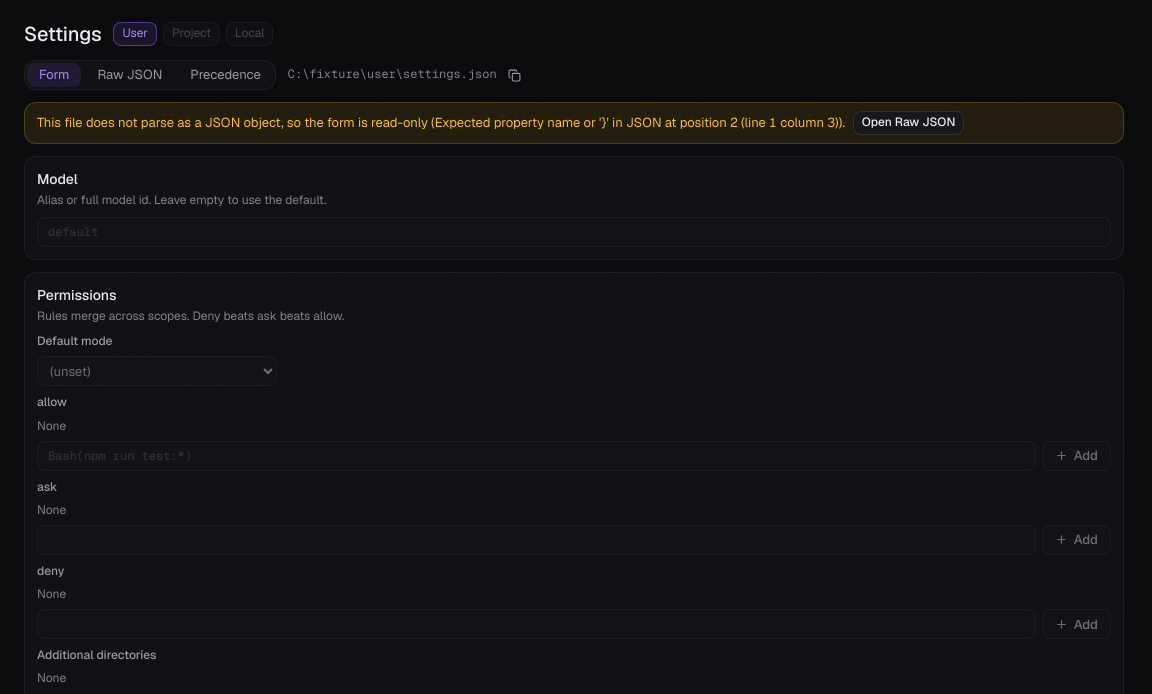
Scenario: SettingsPage form › an unparsable file makes the form read-only and offers Raw
Check: the text "form is read-only" is shown, box left=37, top=114, right=428, bottom=131
Check: the field named "Model" is disabled, box left=37, top=217, right=1111, bottom=247
What coordinates should you click on to do the following:
click the button "Open Raw JSON"
I would click on:
 (909, 123)
Its box is left=853, top=111, right=964, bottom=135.
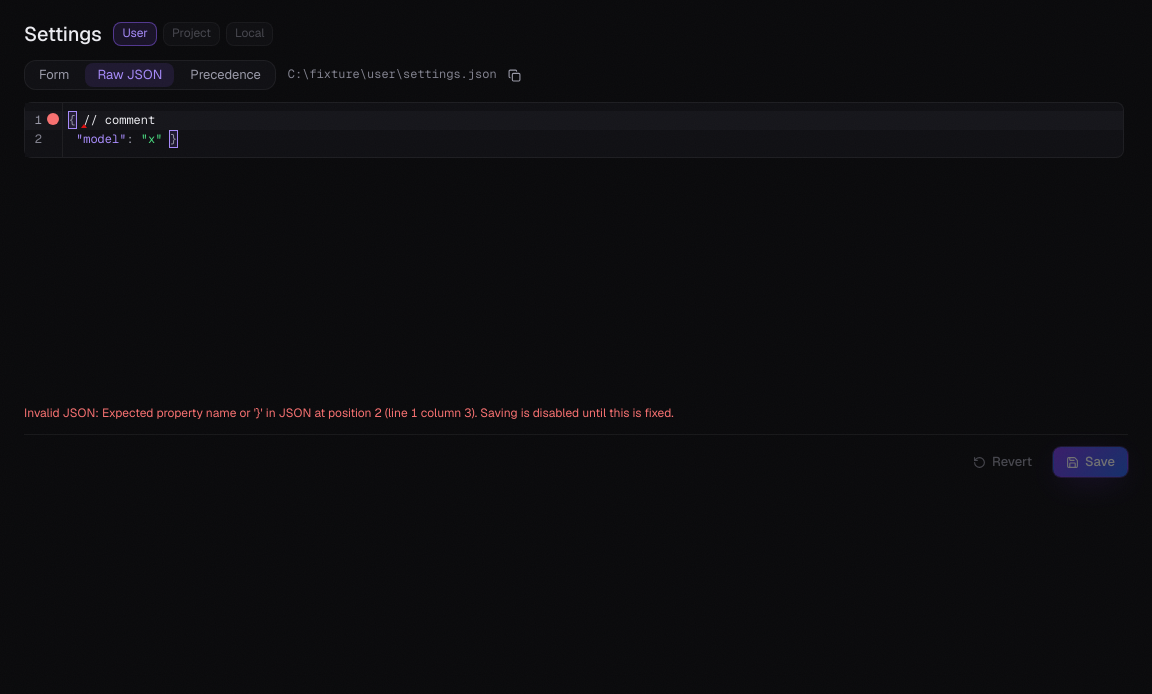
Check: the field named "Raw settings JSON" is shown, box left=63, top=103, right=1123, bottom=157
